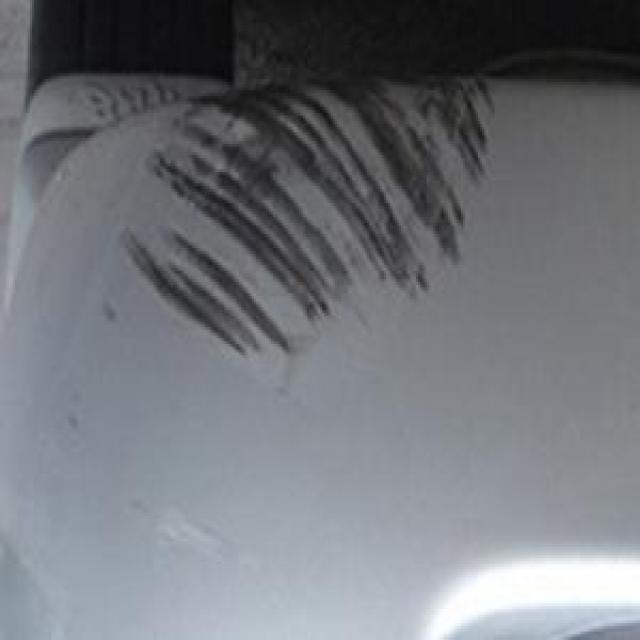scratch: (84, 67, 534, 376)
